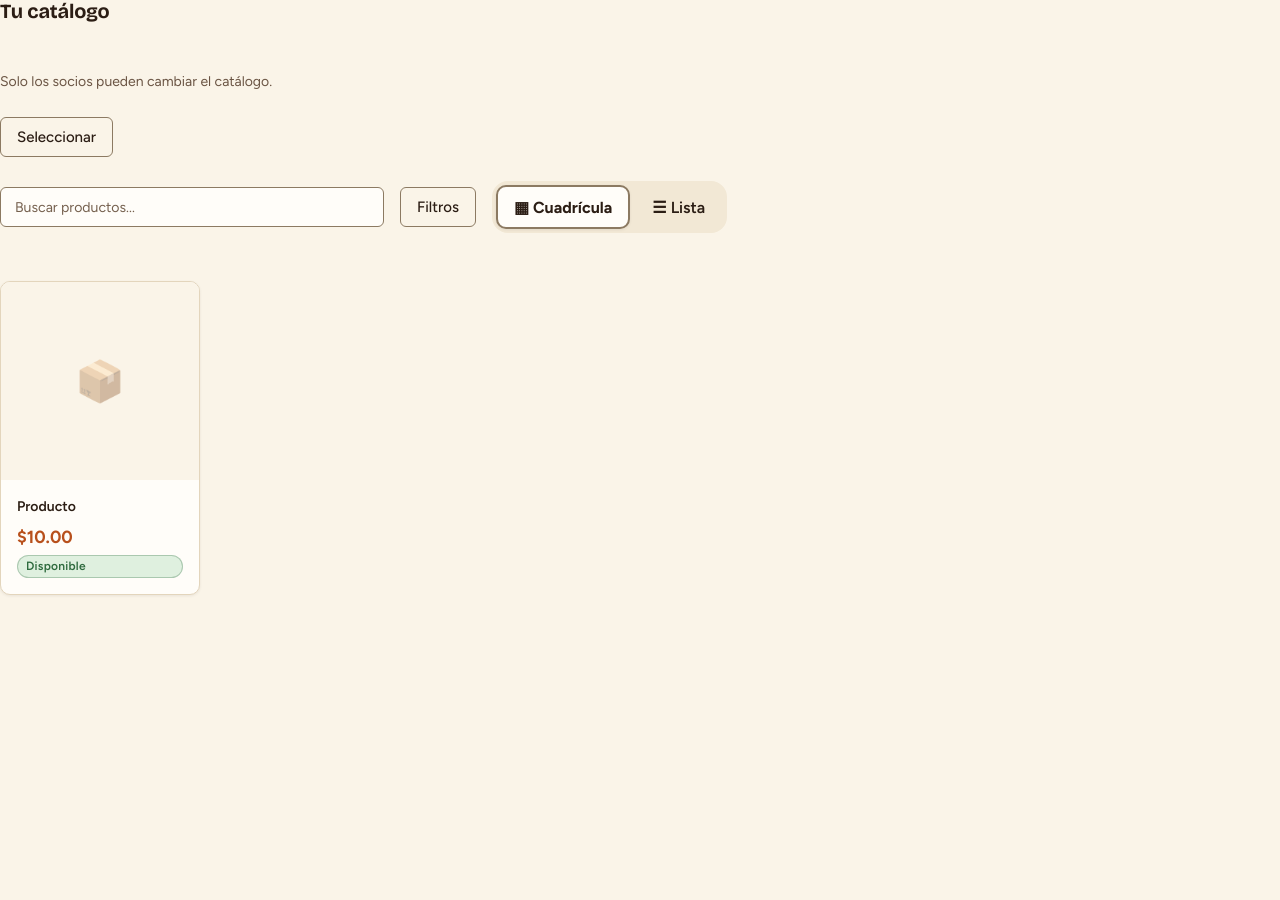
Scenario: ProductCatalogView — filtro de poca existencia (umbral) › un colaborador también puede usarlo (no es cosa de socios)
Click the button "Filtros" at {"x": 438, "y": 207}, box [400,187,476,227]
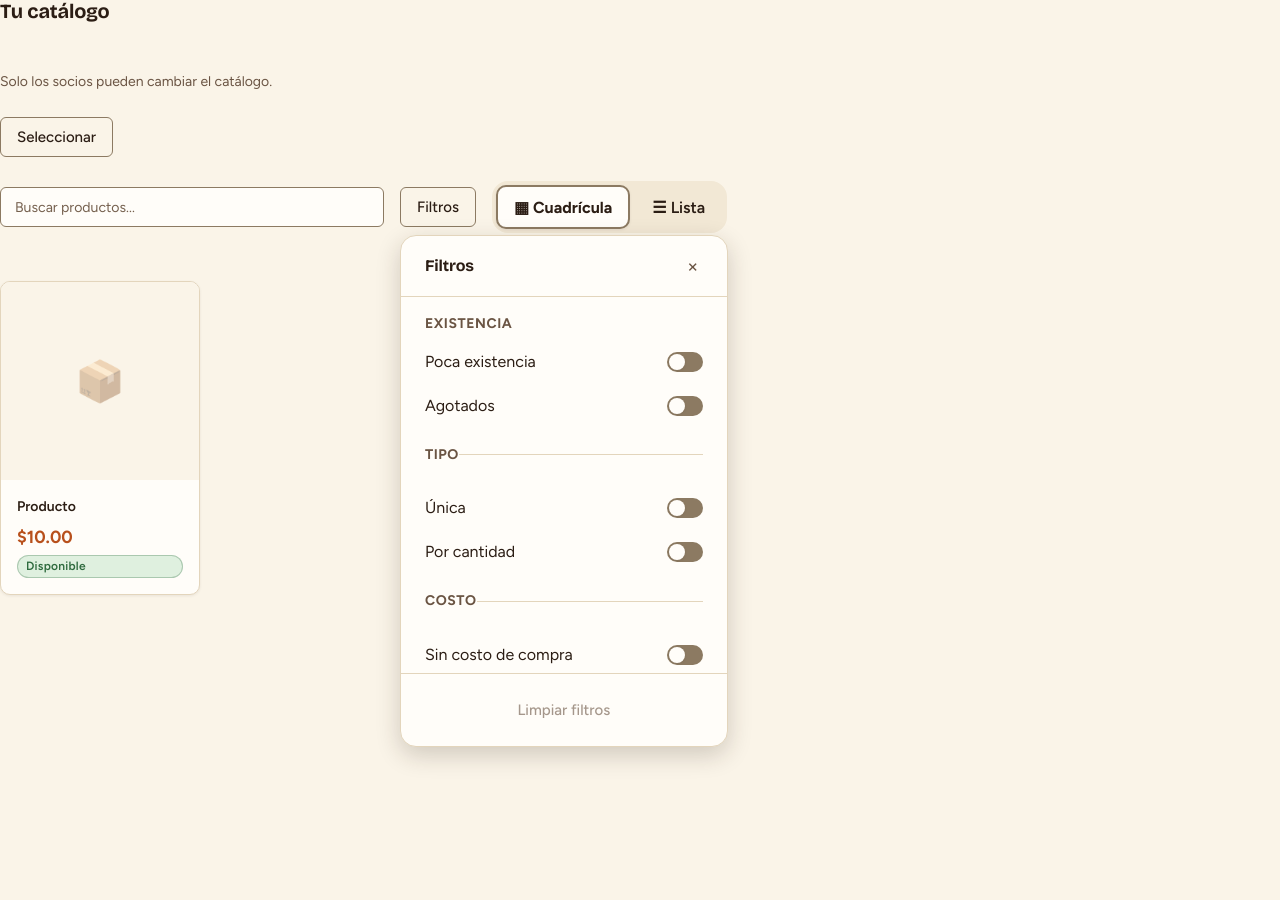
Now the text "Poca existencia" is shown, box [425,352,536,371]
